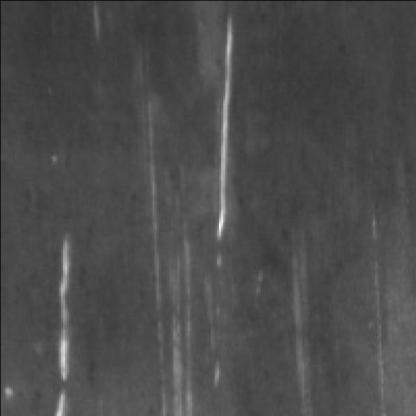scratches: (150, 154, 196, 410), (212, 6, 246, 242), (48, 229, 85, 412), (289, 235, 318, 408)
